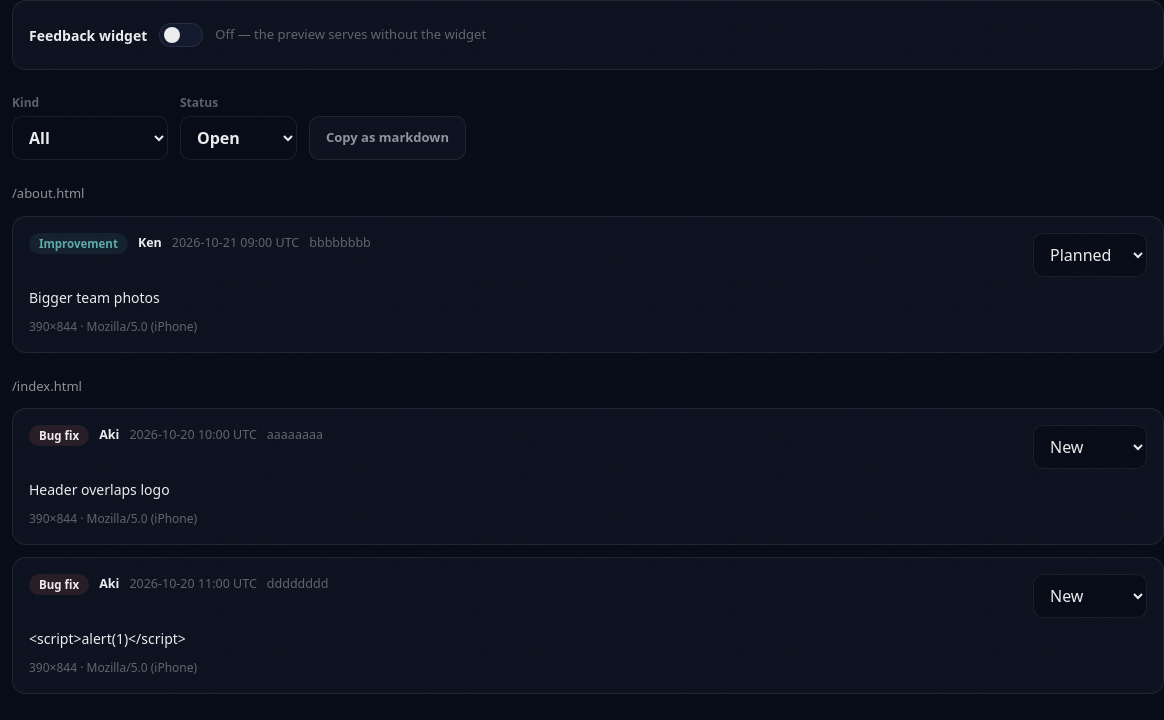
AdminPreviewFeedback › filters by kind
The width and height of the screenshot is (1164, 720).
Select "Improvement" in the dropdown named "Filter by kind": (90, 138) [12,116,168,160]
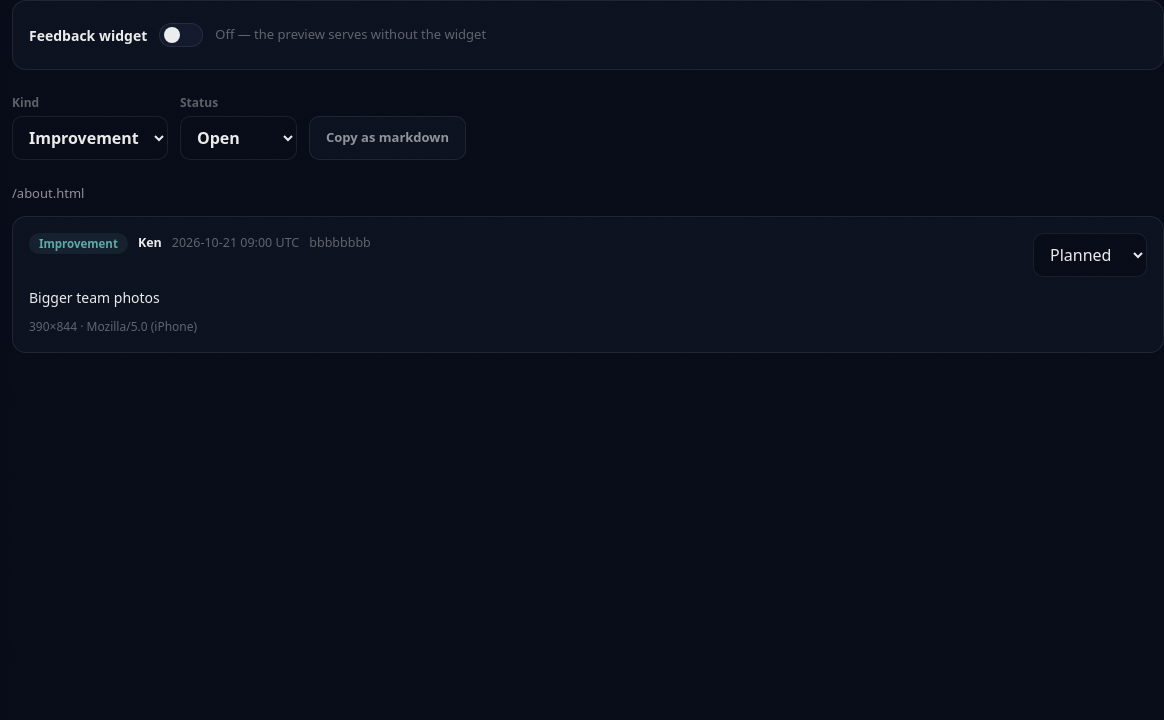
Expected: the text "Bigger team photos" is shown, [29,288,160,306]
Expected: the text "Header overlaps logo" is gone
